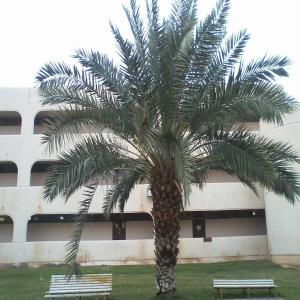palm tree: (33, 0, 299, 299)
